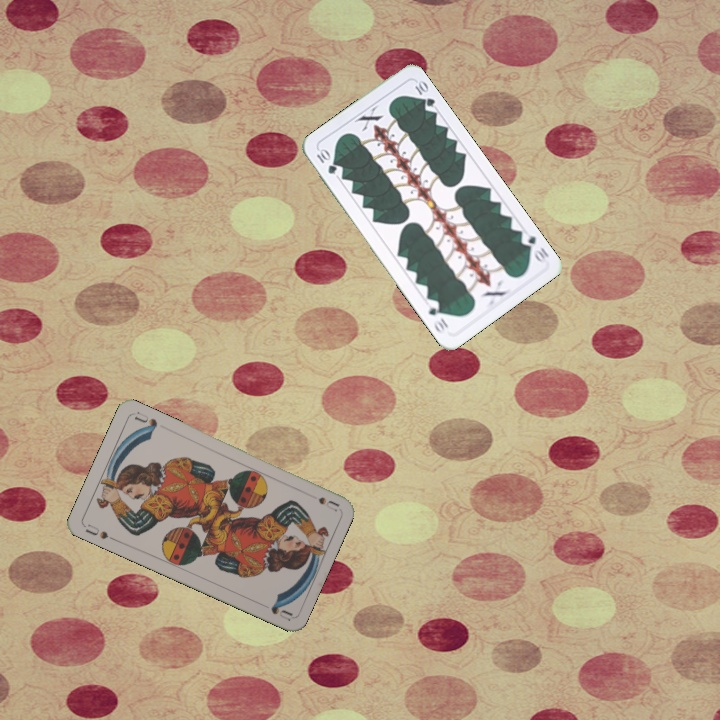G10: (516, 231, 552, 266), (312, 145, 339, 177)
SU: (81, 520, 119, 544), (314, 493, 341, 514)
